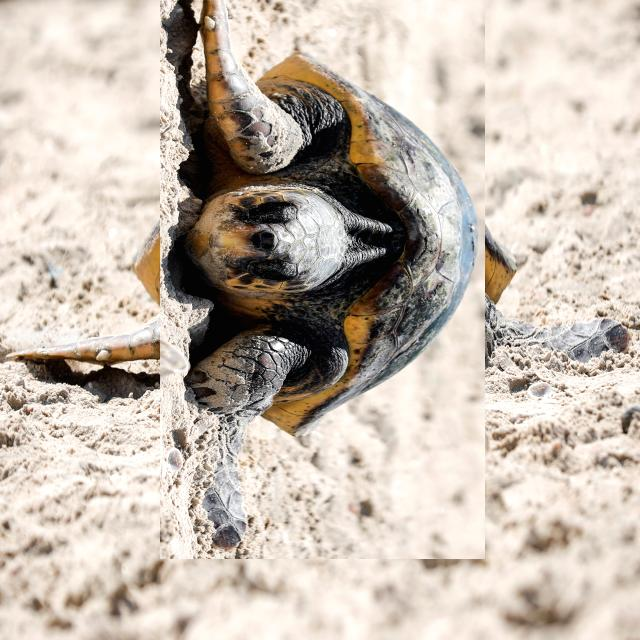Sea turtle: (82, 2, 563, 482)
